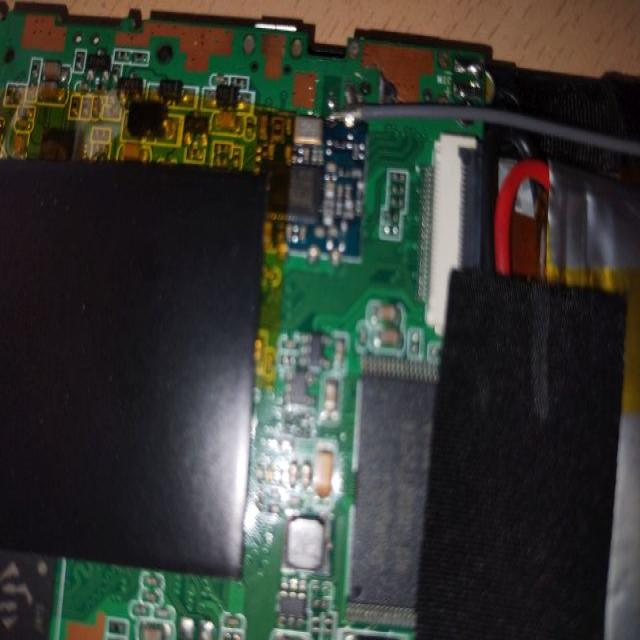capacitor: (309, 442, 344, 517)
